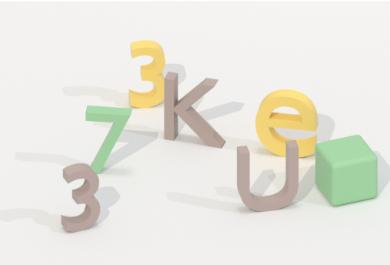0-KhoiVuong: (311, 132, 382, 210)
3: (59, 160, 103, 236), (125, 37, 169, 111)
7: (82, 100, 136, 176)
K: (162, 67, 230, 152)
U: (232, 137, 301, 214)
e: (252, 85, 320, 162)
